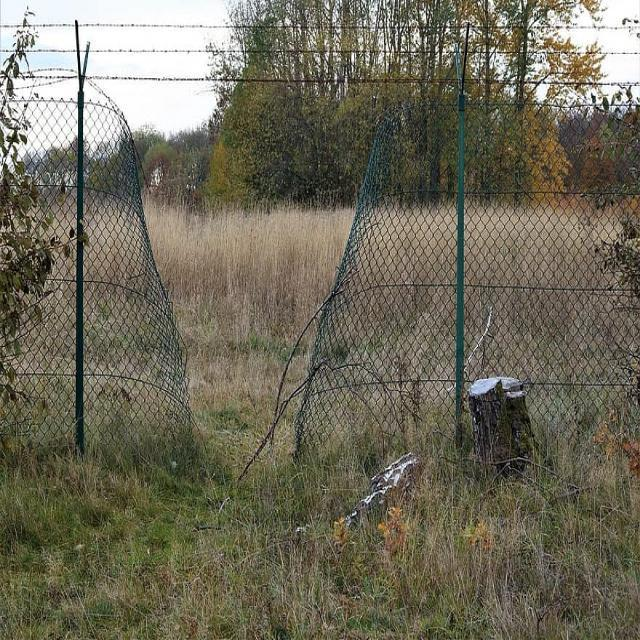fence line: (106, 90, 400, 498)
